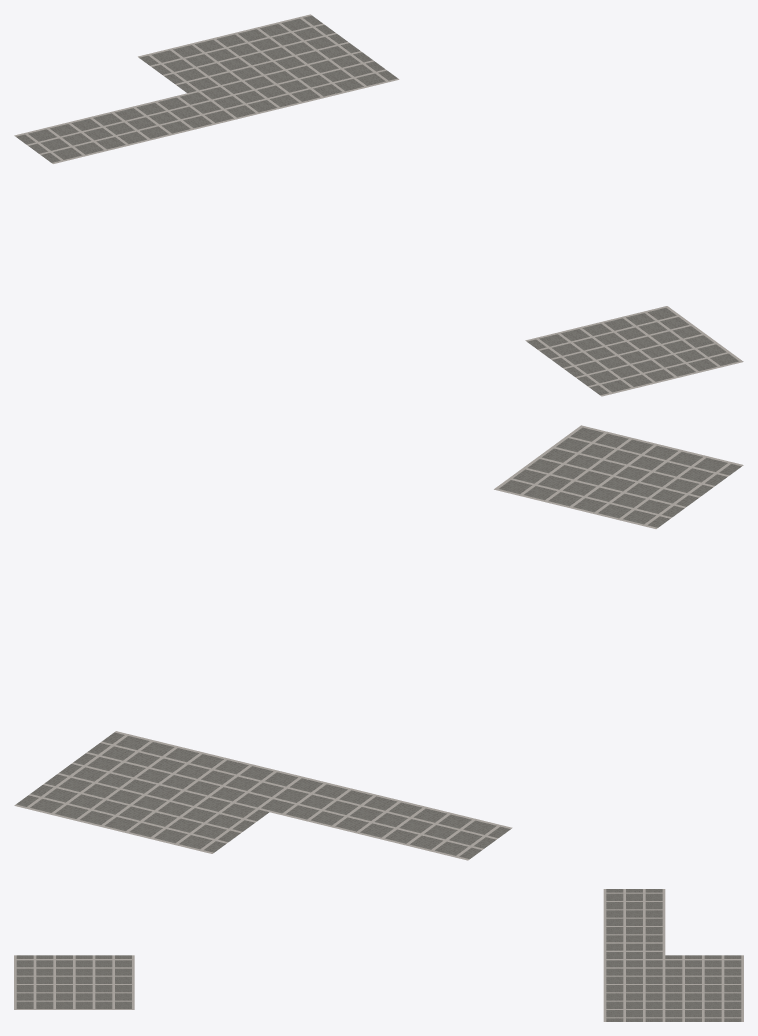
Rendered from Piso_Entorno.obj.
3 renders of one model, top to bottom at view 1: azimuth 30°, elevation 25°; view 2: azimuth 150°, elevation 25°; view 3: azimuth 270°, elevation 25°, orthographic. The views are drawn at different scales.
Visible parts, largest first — view 1: Piso_Entorno; view 2: Piso_Entorno; view 3: Piso_Entorno.
Part boxes in pixels (<box>): Piso_Entorno: <box>14,14,743,396</box>; Piso_Entorno: <box>14,425,743,860</box>; Piso_Entorno: <box>14,889,743,1021</box>.
Bounding box in the file's own units: 36.8 × 0 × 85.4.
Materials: 2 (2 with a texture image).
